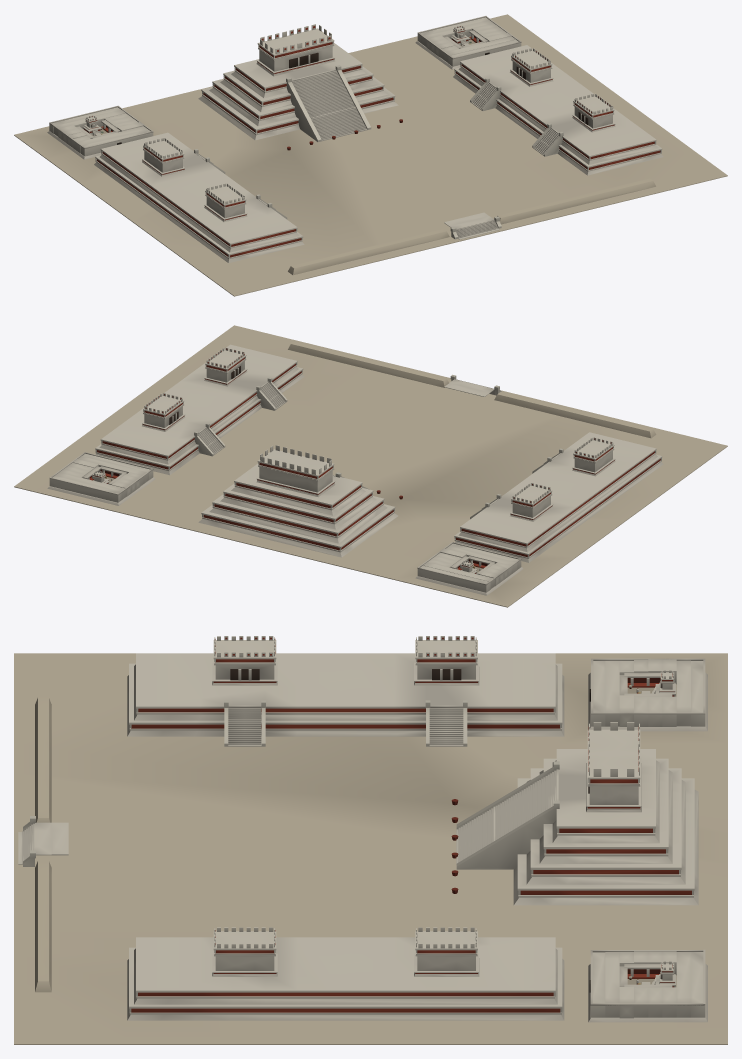
Rendered from plaza-of-the-columns.glb.
The picture shows the model from 3 angles, top to bottom: view 1: azimuth 30°, elevation 25°; view 2: azimuth 150°, elevation 25°; view 3: azimuth 270°, elevation 25°; orthographic projection. The views are drawn at different scales.
Parts seen in each view (by area): view 1: p0_plaza, p1_stage1, p2_stage2; view 2: p0_plaza, p1_stage1, p2_stage2; view 3: p0_plaza, p1_stage1, p2_stage2.
Boxes of the visible parts, <box> form: p0_plaza: <box>14,14,727,296</box>; p1_stage1: <box>94,24,663,275</box>; p2_stage2: <box>47,16,615,222</box>; p0_plaza: <box>14,325,727,607</box>; p1_stage1: <box>95,341,663,562</box>; p2_stage2: <box>47,347,615,595</box>; p0_plaza: <box>14,653,727,1044</box>; p1_stage1: <box>18,653,698,1020</box>; p2_stage2: <box>212,636,707,1022</box>.
Size of the model in its own units: 220 by 27.34 by 170.
